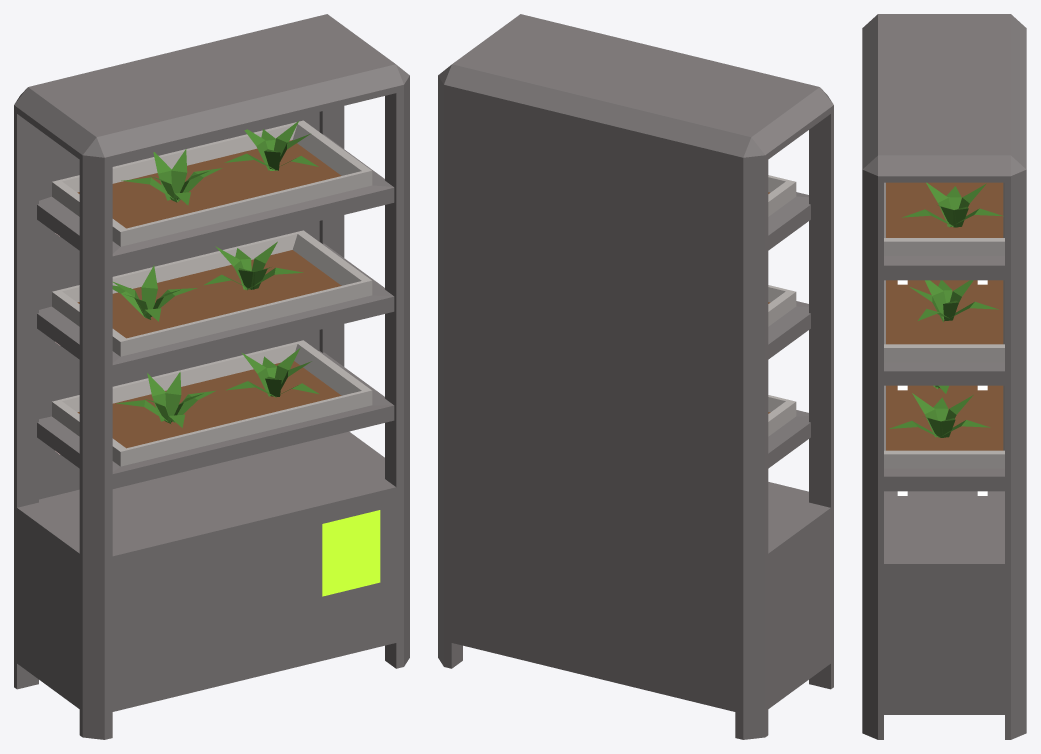
File: scifi_scifi-hydroponic-open.fbx
3 renders of one model, left to right at view 1: azimuth 30°, elevation 25°; view 2: azimuth 150°, elevation 25°; view 3: azimuth 270°, elevation 25°, orthographic. The views are drawn at different scales.
Parts seen in each view (by area): view 1: scifi_scifi_hydroponic_open; view 2: scifi_scifi_hydroponic_open; view 3: scifi_scifi_hydroponic_open.
Part boxes in pixels (bbox=[...]): scifi_scifi_hydroponic_open: bbox=[14, 14, 409, 739]; scifi_scifi_hydroponic_open: bbox=[438, 14, 833, 739]; scifi_scifi_hydroponic_open: bbox=[862, 14, 1026, 739].
Bounding box in the file's own units: 115 × 200 × 51.48.
